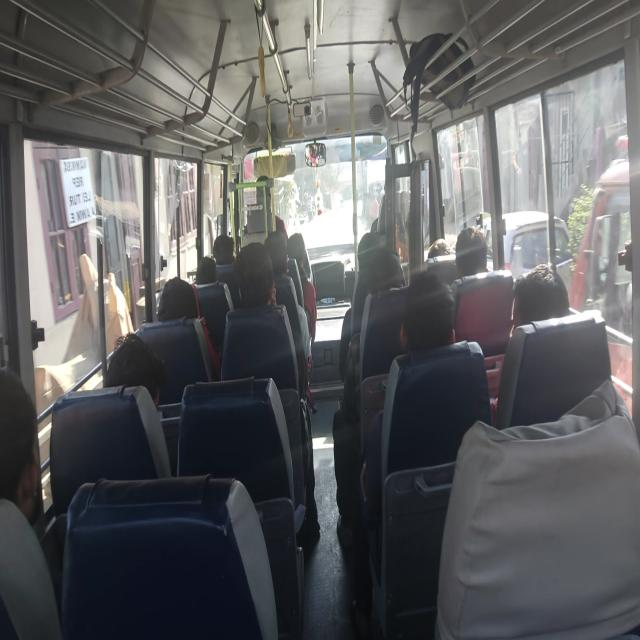person: (0, 376, 86, 556), (507, 248, 577, 345), (103, 321, 158, 405), (405, 268, 447, 367), (237, 242, 278, 325), (462, 211, 498, 292), (261, 225, 295, 295), (370, 250, 410, 307), (417, 230, 461, 271), (163, 271, 197, 315), (292, 225, 320, 278), (359, 222, 388, 262), (198, 248, 223, 291), (210, 224, 231, 272)
